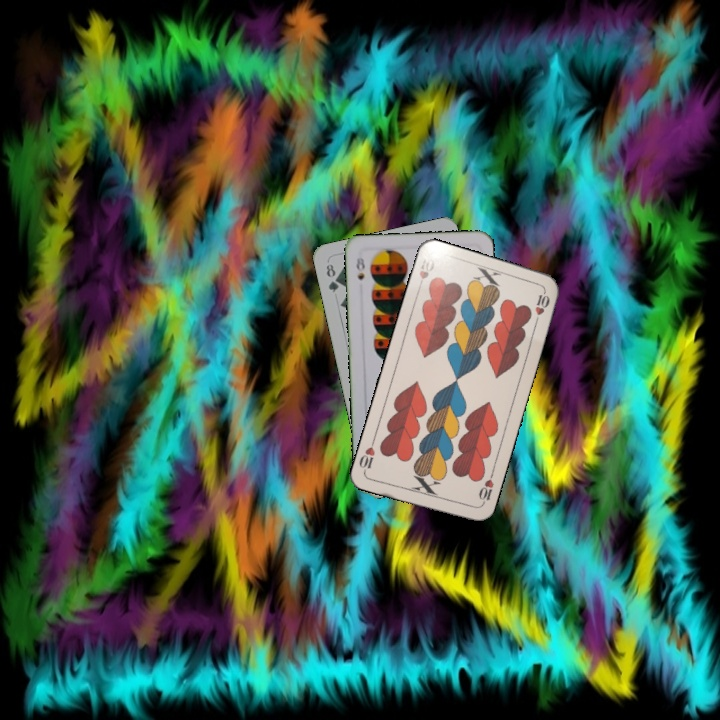G8: (322, 260, 341, 295)
H10: (414, 252, 437, 292), (474, 469, 496, 509)
S8: (352, 253, 368, 283)
